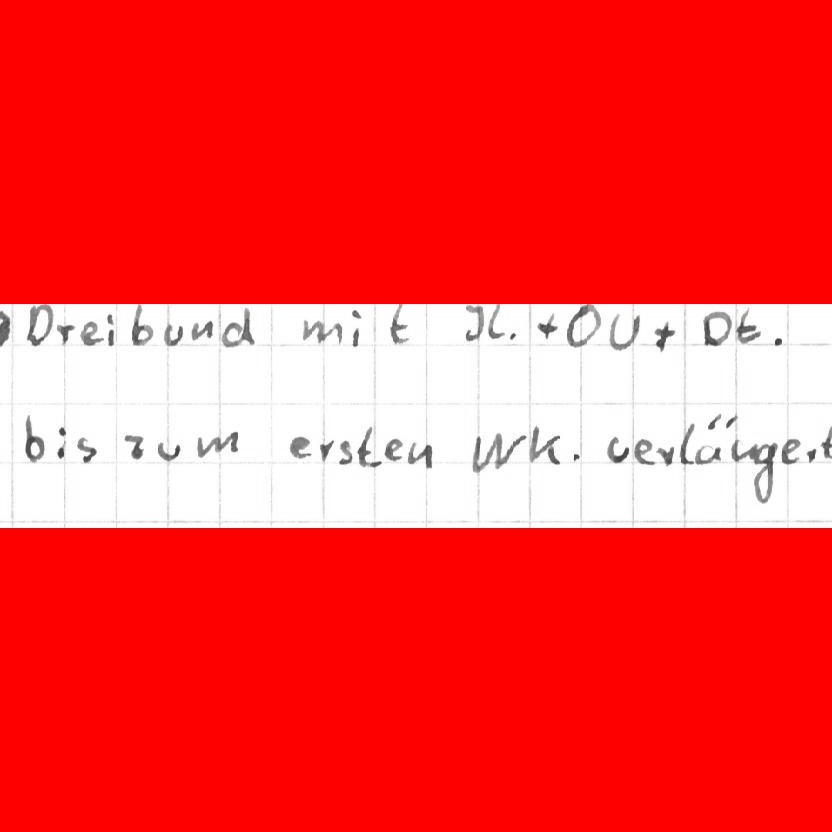Char: (473, 432, 524, 474), (606, 308, 644, 353), (528, 422, 564, 466), (750, 442, 775, 504), (220, 306, 255, 349), (565, 305, 599, 349), (21, 408, 47, 463), (698, 411, 724, 464), (724, 417, 750, 466), (195, 430, 238, 459), (299, 316, 342, 345), (387, 302, 415, 345), (24, 306, 52, 347), (701, 308, 730, 347), (356, 423, 381, 468), (651, 315, 677, 353), (735, 307, 761, 344), (486, 305, 512, 342), (129, 306, 152, 346), (535, 310, 561, 344), (461, 306, 483, 343), (605, 434, 630, 466), (120, 430, 145, 462), (407, 440, 433, 468), (679, 421, 695, 466), (75, 435, 97, 465), (189, 316, 214, 342), (349, 307, 365, 346), (156, 439, 183, 462), (288, 432, 311, 459), (634, 437, 655, 466), (781, 437, 803, 464), (162, 320, 185, 345), (80, 319, 101, 346), (384, 436, 404, 464), (55, 423, 68, 460), (819, 420, 832, 457), (56, 320, 75, 345), (0, 308, 12, 347), (656, 442, 676, 465), (336, 439, 353, 465), (103, 311, 116, 345), (318, 437, 335, 461), (770, 331, 787, 349), (805, 443, 819, 464), (568, 447, 583, 464)
